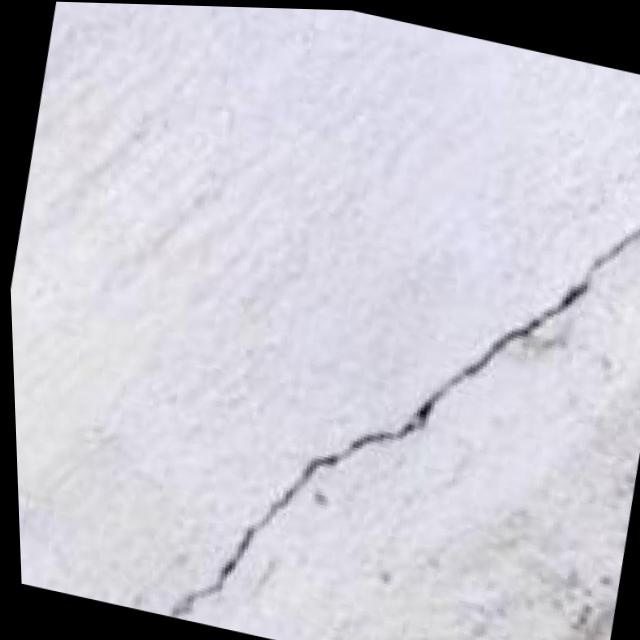Crack: (96, 76, 640, 640)
